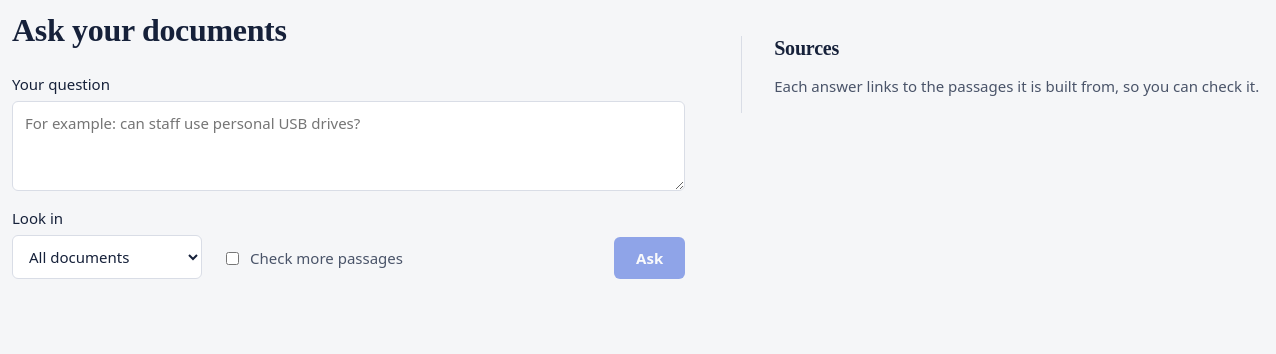
it: Ask › shows the location only when it says something
In the text box labelled "Your question": (349, 146) [12,101,685,191], type "Can staff use USB drives?"
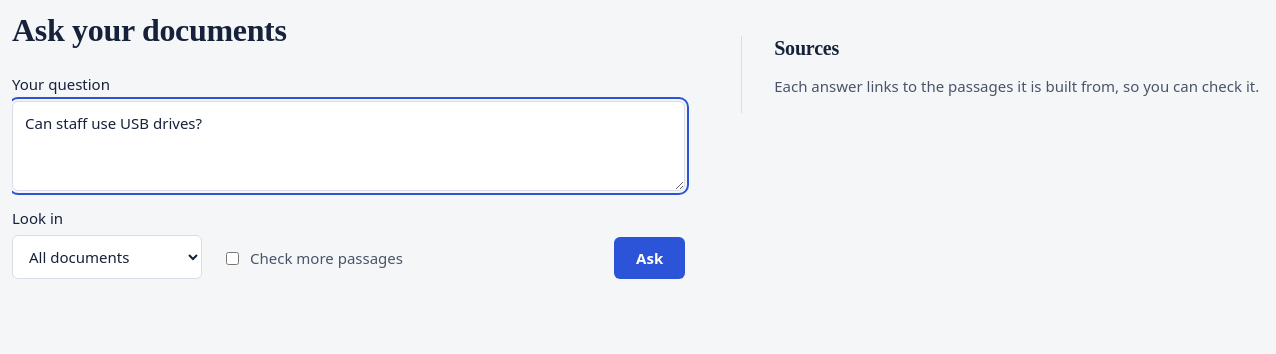
Click the button "Ask": (650, 258) [614,237,685,279]
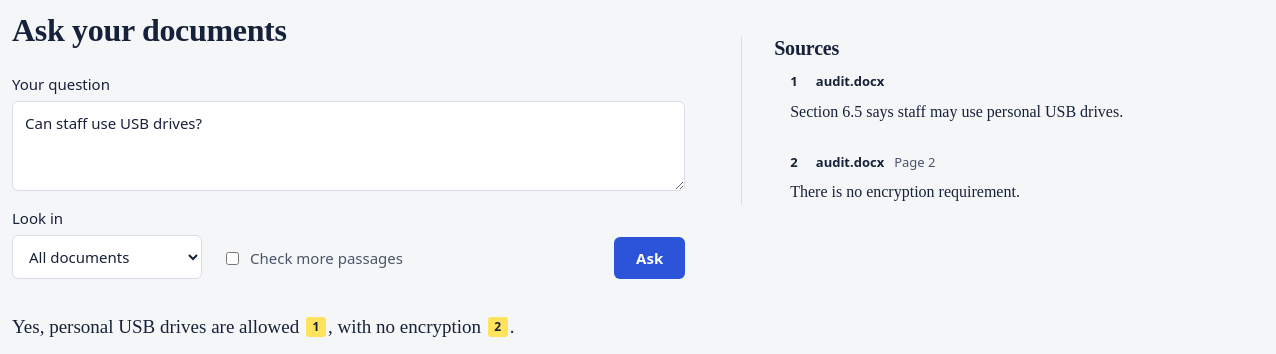
Expected: the text "Yes, personal USB drives are allowed" is shown, [12,316,304,337]
Expected: the text "Page 2" is shown, [894,153,936,172]
